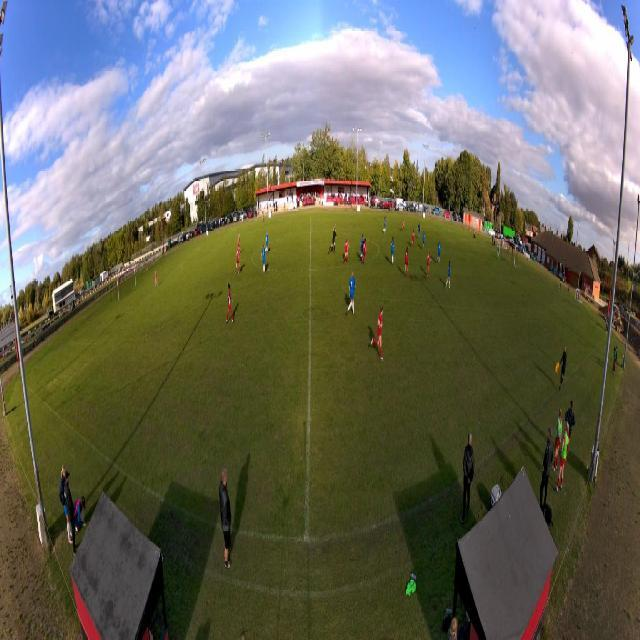ball: (365, 166, 367, 170)
player: (370, 305, 384, 362), (346, 270, 356, 317), (226, 282, 235, 326), (328, 221, 337, 255), (234, 245, 241, 276), (444, 259, 451, 289), (343, 236, 350, 265), (260, 244, 266, 276), (404, 245, 409, 279), (426, 250, 432, 278), (362, 237, 368, 264), (359, 233, 364, 264), (436, 240, 442, 264), (391, 236, 395, 267), (264, 231, 269, 255), (417, 221, 422, 240), (400, 216, 405, 233), (411, 228, 415, 249), (422, 230, 426, 250), (383, 216, 387, 236), (155, 269, 159, 289), (238, 233, 241, 253), (498, 243, 500, 261)
